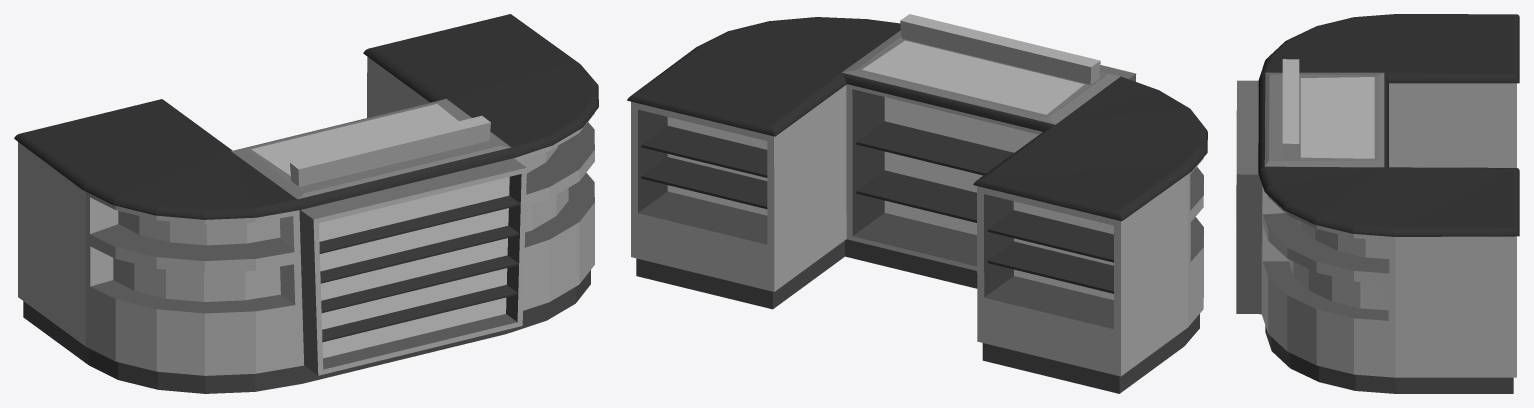
File: Checkout Counter #2.fbx
The picture shows the model from 3 angles, left to right: view 1: azimuth 30°, elevation 25°; view 2: azimuth 150°, elevation 25°; view 3: azimuth 270°, elevation 25°; orthographic projection. The views are drawn at different scales.
Visible parts, largest first — view 1: Checkout Counter #2; view 2: Checkout Counter #2; view 3: Checkout Counter #2.
Boxes of the visible parts, <box> form: Checkout Counter #2: <box>14,14,598,393</box>; Checkout Counter #2: <box>627,14,1207,393</box>; Checkout Counter #2: <box>1236,14,1519,393</box>.
Bounding box in the file's own units: 295 × 116 × 160.
Materials: 1 (1 with a texture image).
